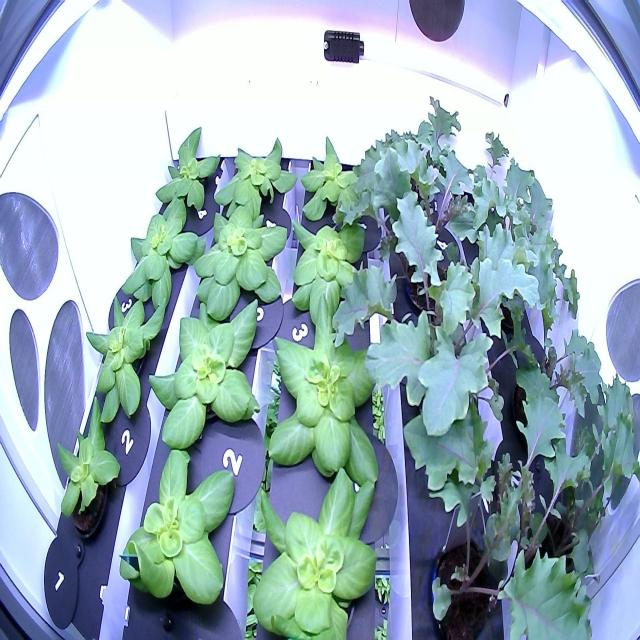young: (243, 468, 391, 639), (116, 442, 252, 628), (260, 298, 389, 490), (146, 290, 275, 454), (188, 189, 294, 325), (78, 284, 176, 430), (110, 187, 208, 316), (278, 215, 379, 336), (50, 392, 124, 550), (292, 127, 386, 233), (210, 126, 302, 224), (154, 118, 224, 227)
